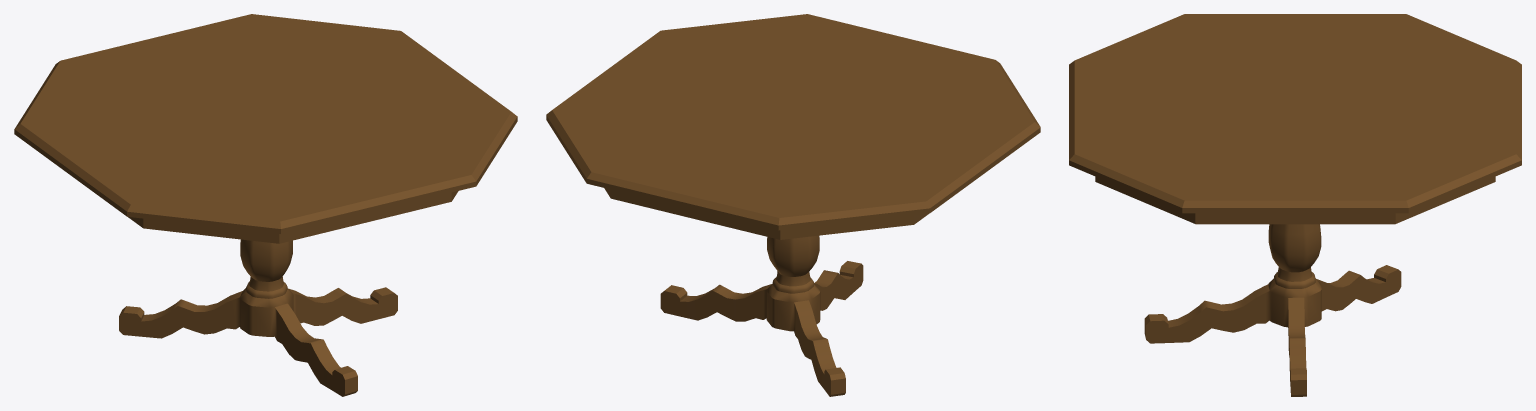
Rendered from Table.fbx.
3 renders of one model, left to right at view 1: azimuth 30°, elevation 25°; view 2: azimuth 150°, elevation 25°; view 3: azimuth 270°, elevation 25°, orthographic. The views are drawn at different scales.
Parts seen in each view (by area): view 1: polySurface64; view 2: polySurface64; view 3: polySurface64.
Boxes of the visible parts, x1,y1,x2,y2 form: polySurface64: (14, 14, 517, 396); polySurface64: (546, 14, 1040, 396); polySurface64: (1069, 14, 1521, 396).
Size of the model in its own units: 2 by 1.11 by 2.
